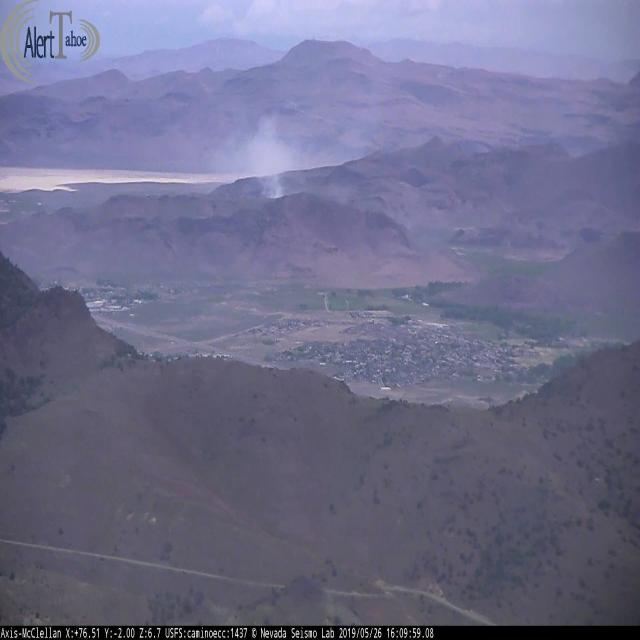smoke: (251, 120, 291, 202)
